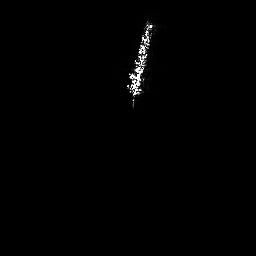ship: (123, 17, 157, 109)
